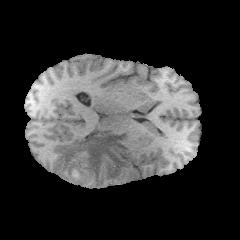glioma: (53, 130, 128, 186)
